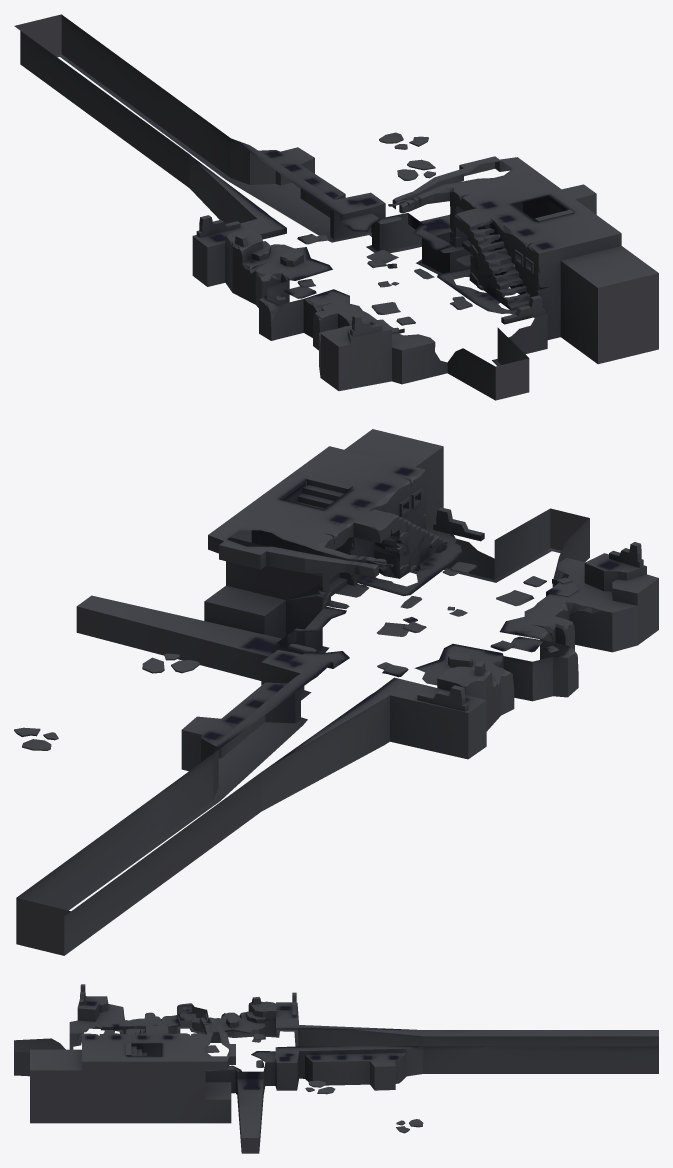
The model's file is Ground_01.FBX.
3 renders of one model, top to bottom at view 1: azimuth 30°, elevation 25°; view 2: azimuth 150°, elevation 25°; view 3: azimuth 270°, elevation 25°, orthographic. The views are drawn at different scales.
Visible parts, largest first — view 1: Ground_01; view 2: Ground_01; view 3: Ground_01.
Part boxes in pixels (x1,y1,x2,y2): Ground_01: [14, 14, 658, 400]; Ground_01: [14, 429, 658, 955]; Ground_01: [14, 984, 658, 1153].
Size of the model in its own units: 33.6 by 7.78 by 72.23.
